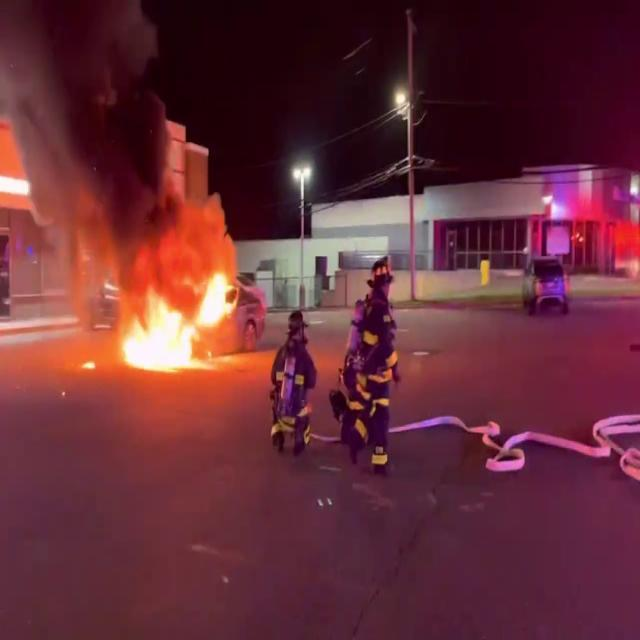Fire: (108, 260, 240, 372)
Smoke: (0, 0, 208, 281)
